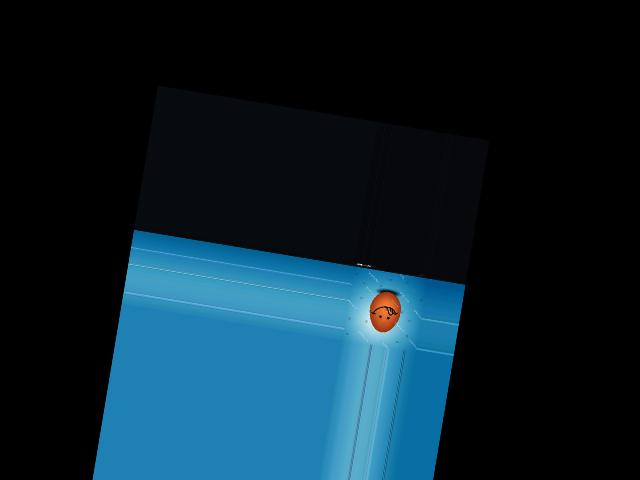egg: (366, 289, 404, 334)
